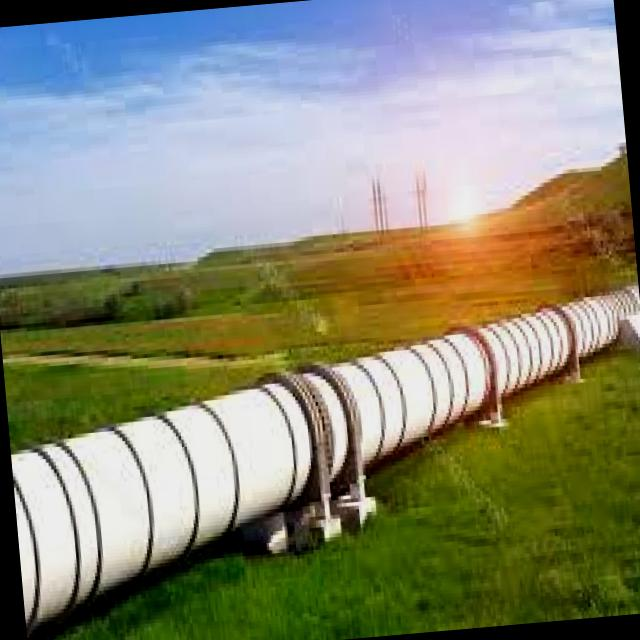gas: (10, 286, 640, 631), (10, 383, 311, 631), (343, 335, 489, 456), (487, 314, 571, 389)
